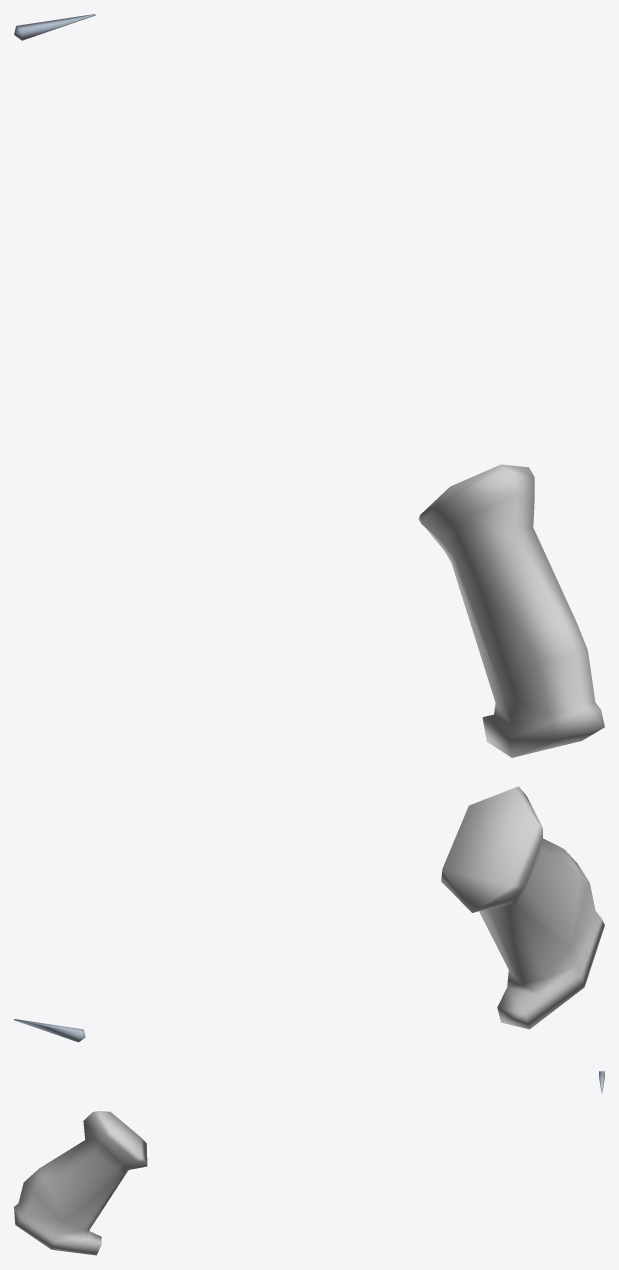
File: grip2.obj
The picture shows the model from 3 angles, top to bottom: view 1: azimuth 30°, elevation 25°; view 2: azimuth 150°, elevation 25°; view 3: azimuth 270°, elevation 25°; orthographic projection. The views are drawn at different scales.
Parts seen in each view (by area): view 1: grip2; view 2: grip2, b_muzzle_flash; view 3: grip2.
Part boxes in pixels (x1,y1,x2,y2): grip2: [418, 464, 604, 757]; grip2: [441, 786, 604, 1029]; b_muzzle_flash: [14, 1019, 85, 1042]; grip2: [14, 1111, 147, 1255].
Size of the model in its own units: 6.13 by 16.5 by 48.75.
